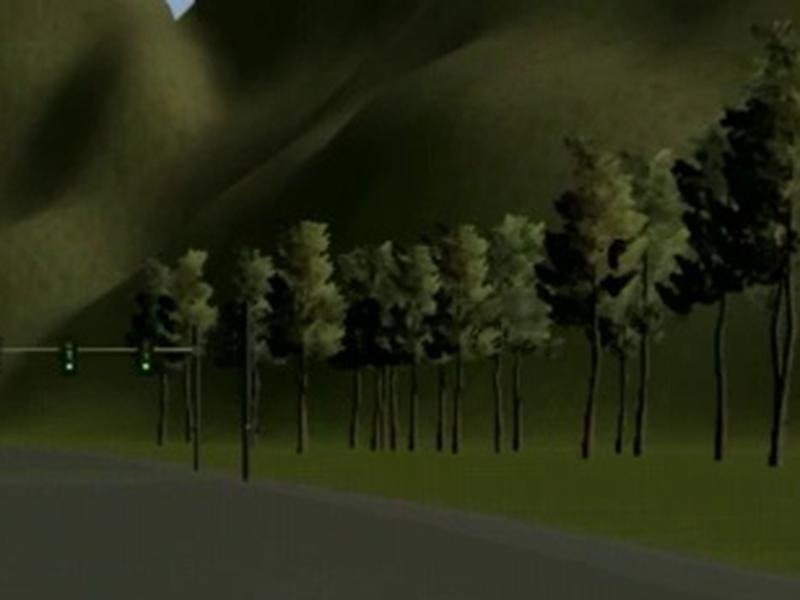Green: (137, 336, 154, 374), (60, 338, 77, 375)
